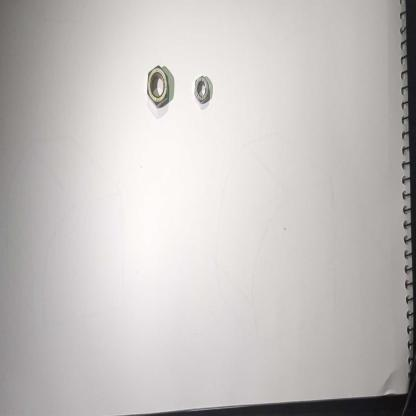NUTS: (140, 56, 172, 114), (191, 64, 219, 118)
